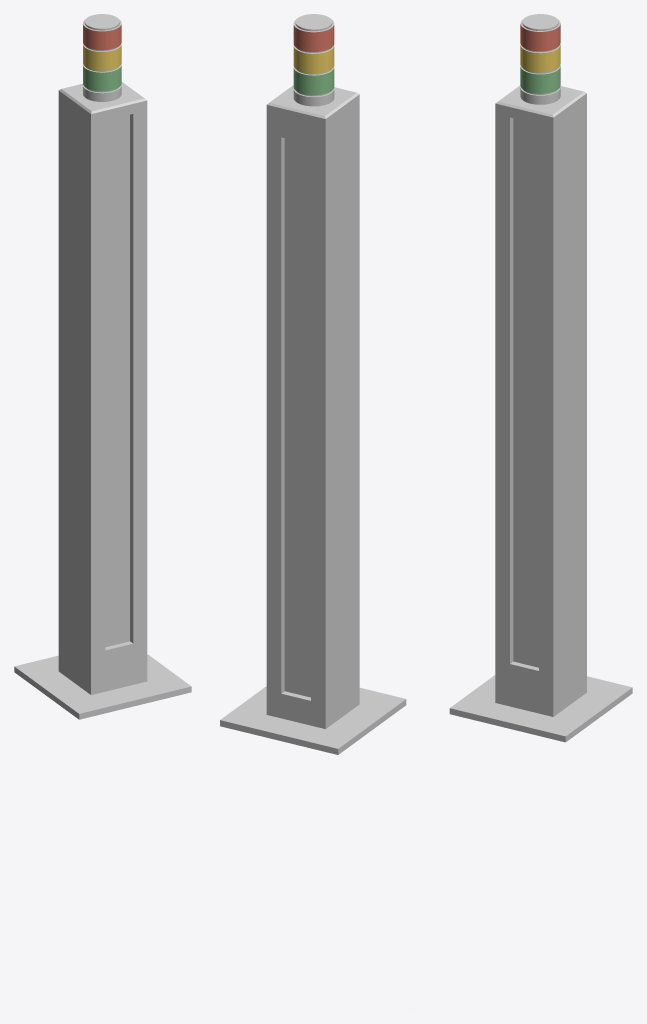
The model's file is Control_panel.glb.
3 views of the same model, side by side, from view 1: azimuth 30°, elevation 25°; view 2: azimuth 150°, elevation 25°; view 3: azimuth 330°, elevation 25° (orthographic). The views are drawn at different scales.
Visible parts, largest first — view 1: Body2, Body3; view 2: Body2, Body3; view 3: Body2, Body3.
Boxes of the visible parts, bbox=[...] form: Body2: bbox=[58, 14, 147, 694]; Body3: bbox=[14, 654, 191, 719]; Body2: bbox=[266, 14, 359, 728]; Body3: bbox=[220, 686, 406, 754]; Body2: bbox=[495, 14, 586, 716]; Body3: bbox=[449, 675, 632, 742].
Bounding box in the file's own units: 213 × 1613 × 200.
